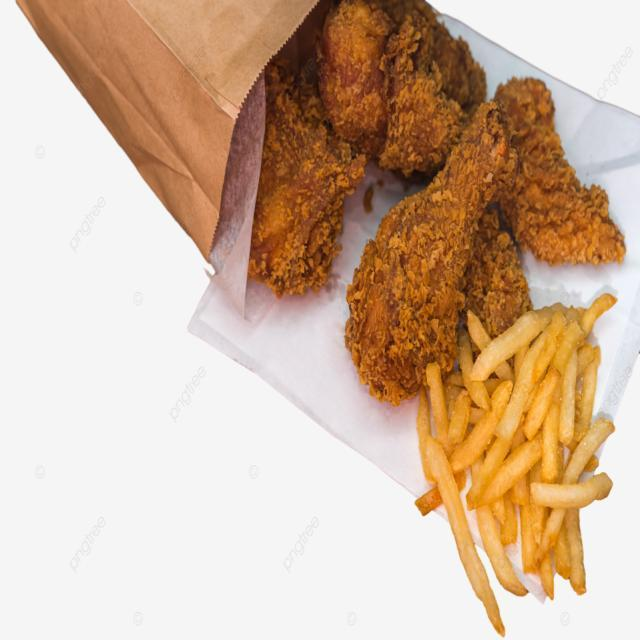ga ran va khoai tay chien: (209, 0, 631, 638)
khoai tay chien: (411, 289, 625, 636)
thit ga: (349, 95, 513, 400), (213, 73, 374, 302), (487, 70, 637, 283), (319, 0, 485, 173), (463, 213, 531, 361)
